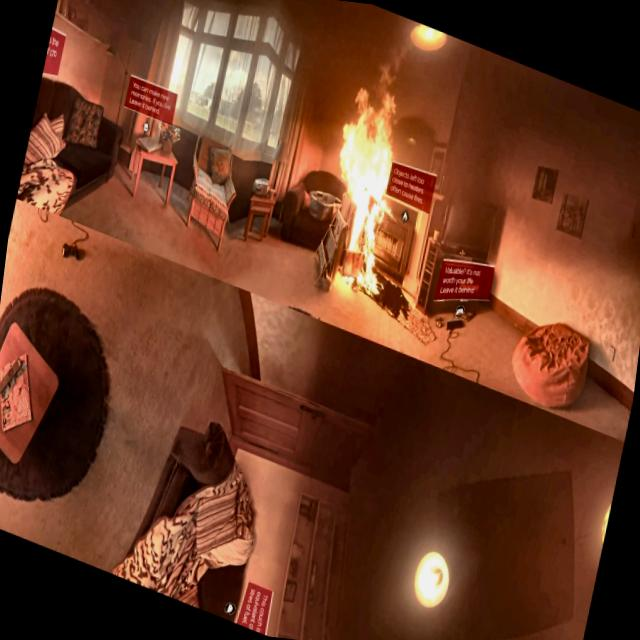fire: (307, 59, 426, 294)
